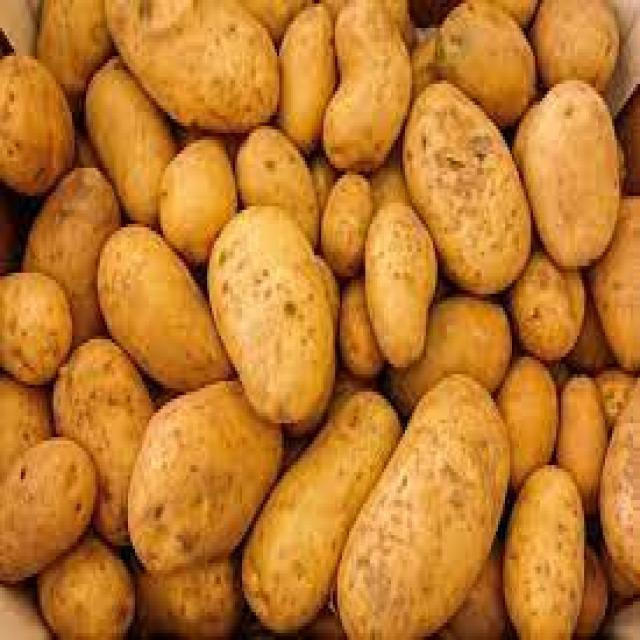Wet Waste: (207, 214, 341, 427)
